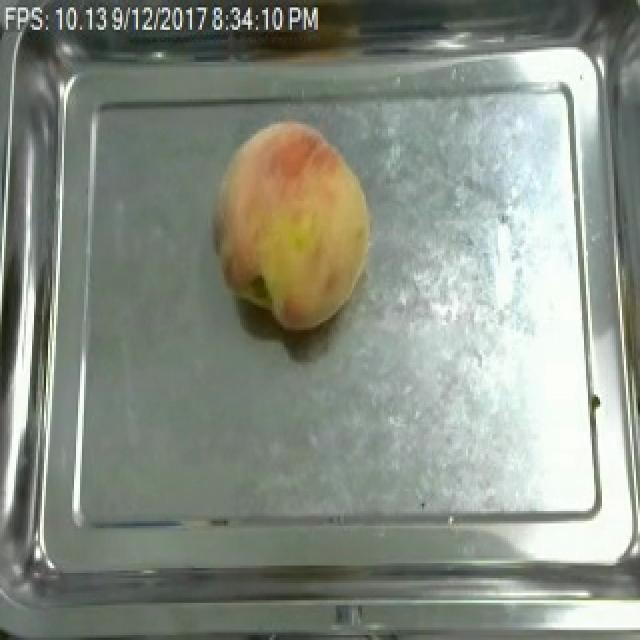Fruit: (206, 112, 382, 335)
